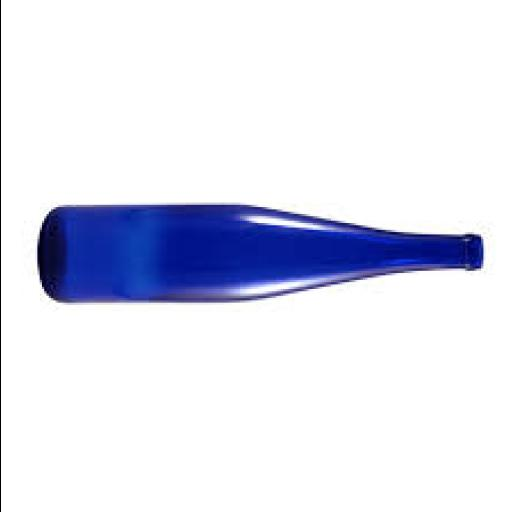blue-bottle: (41, 207, 482, 303)
